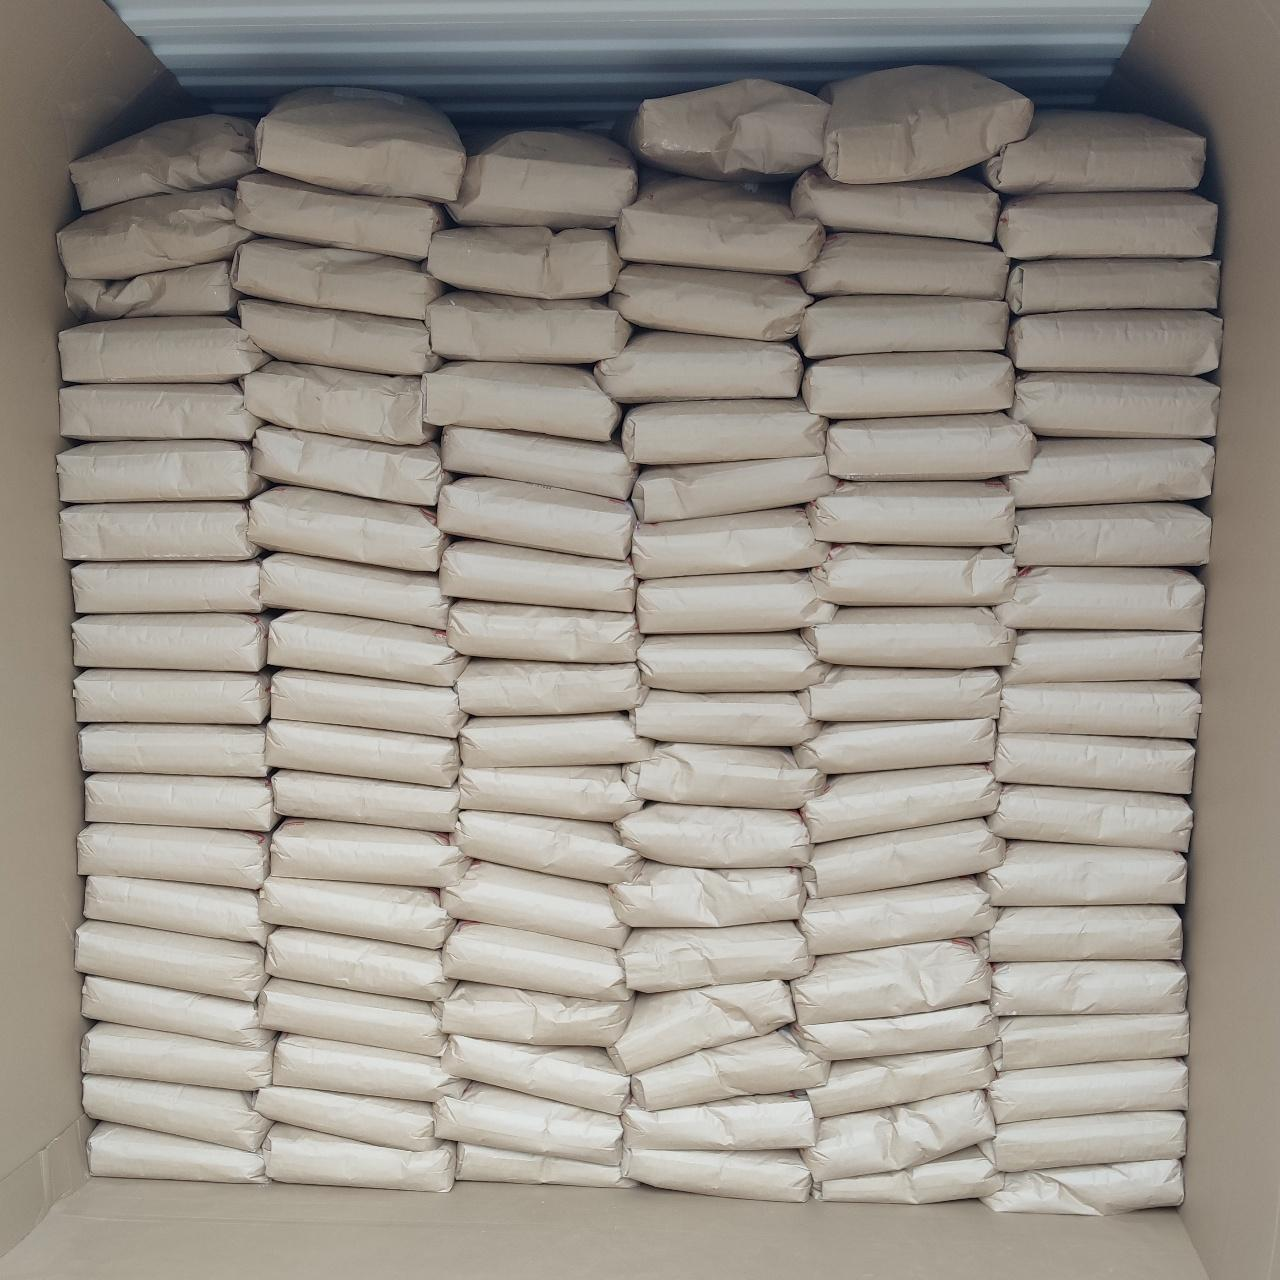sack: (821, 67, 1033, 182), (256, 87, 465, 200), (617, 171, 823, 272), (629, 79, 829, 179), (980, 110, 1205, 195), (448, 129, 636, 227), (234, 173, 445, 260), (70, 114, 256, 210), (57, 188, 251, 279), (804, 1090, 994, 1182), (610, 980, 794, 1073), (248, 488, 447, 572), (791, 940, 989, 1024), (233, 239, 443, 318), (442, 862, 628, 948), (244, 360, 434, 444), (438, 478, 634, 559), (608, 264, 812, 340), (790, 169, 1000, 243), (801, 877, 998, 955), (239, 298, 438, 375), (801, 765, 1000, 843), (805, 819, 1005, 897), (433, 1083, 622, 1164), (252, 425, 444, 505), (633, 1032, 828, 1110), (423, 362, 620, 440), (76, 921, 265, 1001), (594, 331, 803, 402), (442, 1035, 629, 1114), (998, 192, 1217, 259), (442, 922, 631, 1000), (427, 291, 631, 362), (1006, 438, 1214, 508), (802, 350, 1014, 418), (83, 1075, 272, 1151), (267, 612, 462, 686), (258, 978, 441, 1056), (442, 425, 635, 499), (261, 554, 451, 629), (260, 876, 452, 949), (427, 226, 621, 299), (1008, 309, 1223, 375), (440, 540, 635, 612), (631, 508, 828, 578), (828, 413, 1034, 479), (631, 454, 836, 520), (801, 233, 1009, 299), (1010, 373, 1219, 438), (266, 927, 454, 1000), (452, 811, 640, 884), (60, 316, 267, 382), (806, 481, 1013, 546), (806, 1047, 994, 1118), (272, 669, 464, 738), (271, 819, 465, 887), (622, 399, 828, 463), (982, 842, 1186, 906), (988, 787, 1192, 851), (620, 922, 810, 992), (996, 567, 1204, 631), (802, 607, 1015, 668), (266, 719, 457, 787), (798, 297, 1009, 358), (988, 1058, 1187, 1123), (611, 862, 805, 927), (266, 1124, 454, 1192), (82, 1023, 272, 1090), (82, 978, 265, 1047), (272, 1036, 468, 1101), (57, 441, 264, 502), (615, 803, 810, 867), (84, 877, 268, 945), (79, 824, 268, 890), (1013, 503, 1210, 566), (437, 982, 633, 1046), (627, 744, 823, 808), (636, 572, 833, 634), (812, 545, 1016, 605), (981, 1112, 1185, 1172), (990, 734, 1194, 794), (447, 600, 641, 662), (1006, 259, 1218, 314), (271, 770, 457, 832), (990, 1013, 1187, 1071), (1001, 681, 1200, 738), (256, 1085, 433, 1150), (794, 1003, 996, 1060), (61, 503, 258, 560), (61, 384, 260, 441), (636, 633, 828, 692), (73, 613, 266, 670), (979, 906, 1180, 961), (795, 719, 994, 774), (456, 659, 647, 716), (990, 961, 1187, 1016), (87, 774, 275, 831), (983, 1162, 1183, 1216), (1002, 631, 1201, 685), (75, 669, 268, 724), (87, 1122, 265, 1182), (799, 667, 1001, 720), (621, 1096, 816, 1150), (632, 690, 819, 745), (817, 1148, 1005, 1203), (459, 714, 654, 767), (461, 765, 642, 821), (67, 261, 237, 320), (80, 724, 268, 777), (73, 561, 263, 613), (625, 1149, 810, 1201), (457, 1143, 633, 1187)
